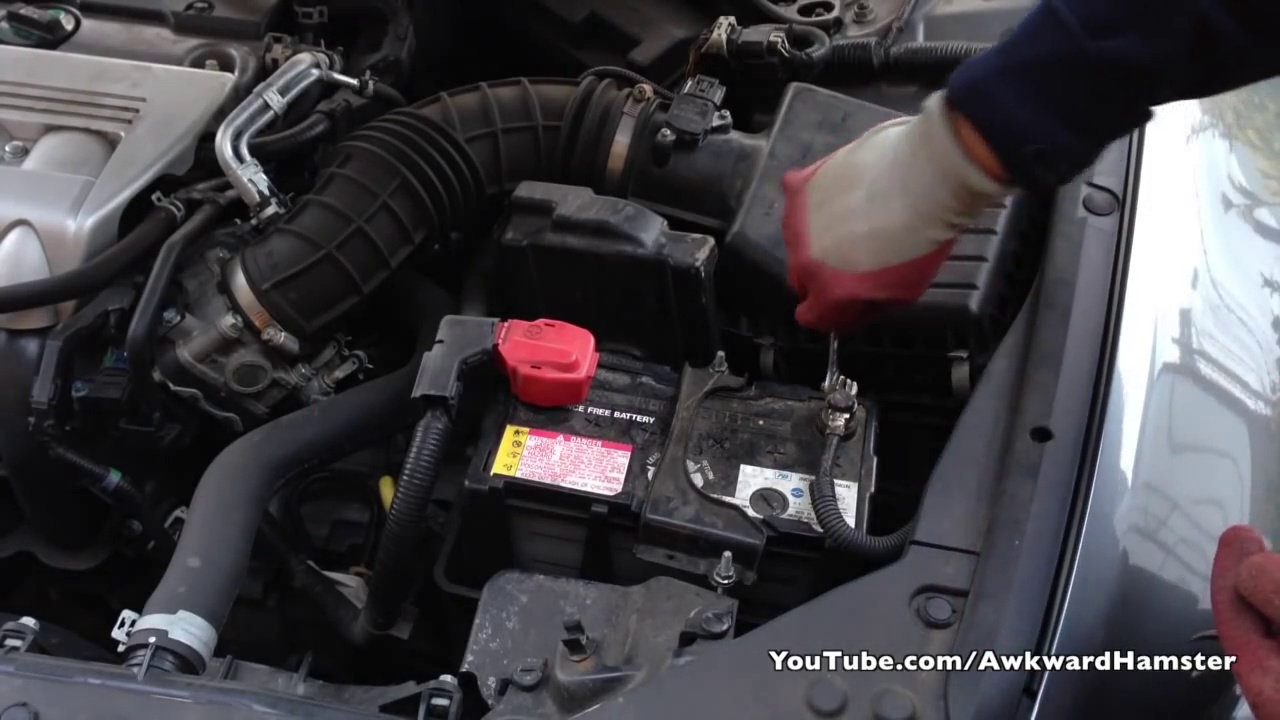battery: (474, 324, 871, 548)
neg_connected: (805, 356, 873, 467)
pos_connected: (417, 310, 624, 415)
